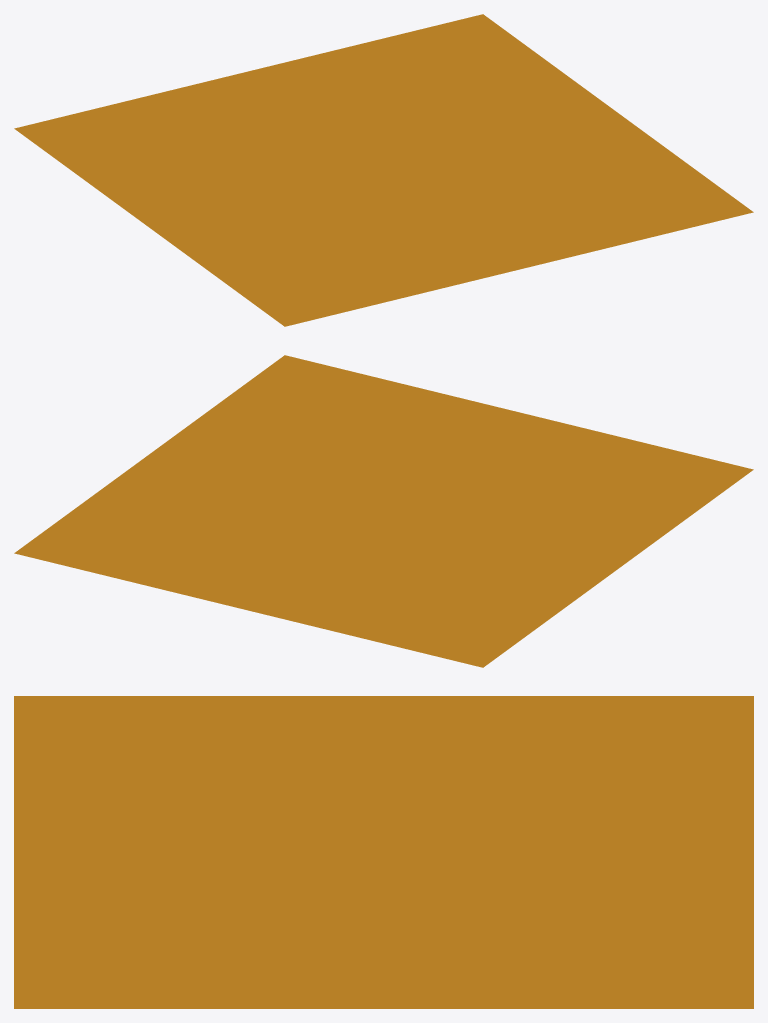
File: blender.obj
3 renders of one model, top to bottom at view 1: azimuth 30°, elevation 25°; view 2: azimuth 150°, elevation 25°; view 3: azimuth 270°, elevation 25°, orthographic. The views are drawn at different scales.
Parts seen in each view (by area): view 1: Grid_Grid.001; view 2: Grid_Grid.001; view 3: Grid_Grid.001.
Boxes of the visible parts, box(x1,y1,x2,y2) form: Grid_Grid.001: box(14, 14, 753, 326); Grid_Grid.001: box(14, 355, 753, 667); Grid_Grid.001: box(14, 696, 753, 1008).
Size of the model in its own units: 2 by 0 by 2.
